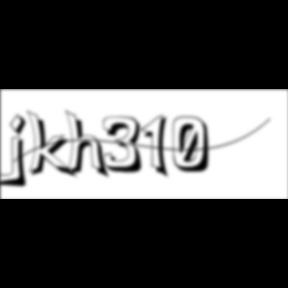0: (172, 115, 218, 174)
1: (139, 114, 174, 182)
3: (103, 116, 149, 176)
h: (66, 108, 112, 182)
j: (7, 113, 34, 191)
k: (26, 108, 80, 181)
